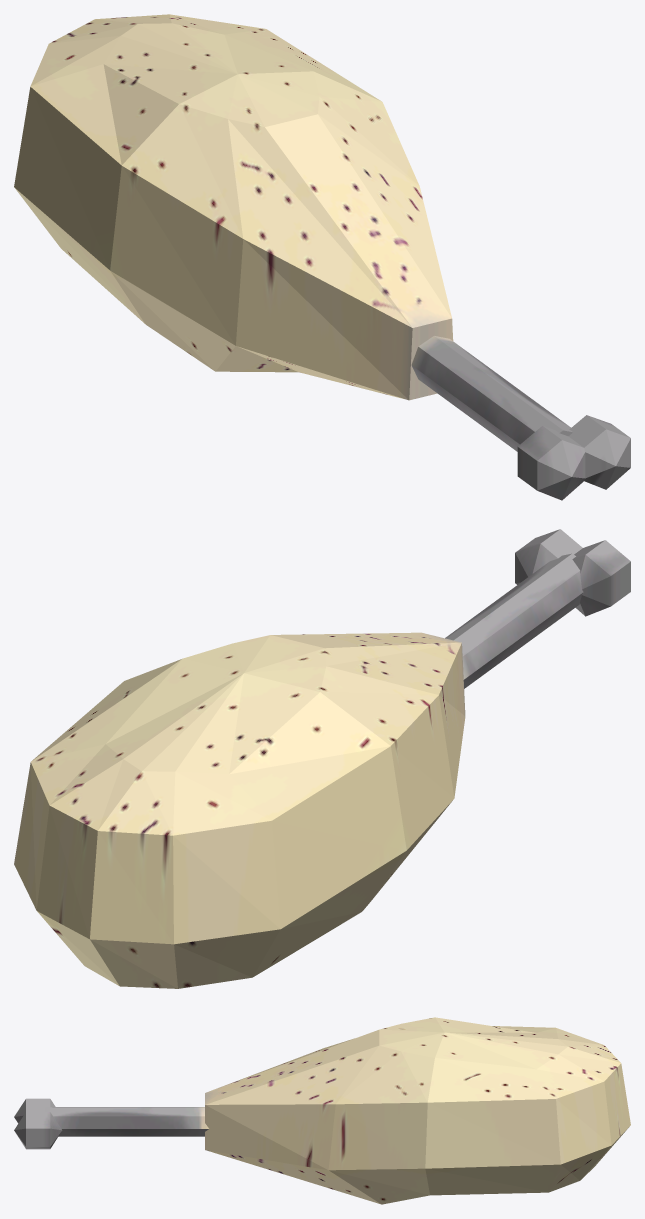
The model's file is Pulke.glb.
The picture shows the model from 3 angles, top to bottom: view 1: azimuth 30°, elevation 25°; view 2: azimuth 150°, elevation 25°; view 3: azimuth 270°, elevation 25°; orthographic projection. The views are drawn at different scales.
Parts seen in each view (by area): view 1: Pulke; view 2: Pulke; view 3: Pulke.
Boxes of the visible parts, left/top/right/bottom form: Pulke: left=14, top=14, right=630, bottom=500; Pulke: left=14, top=529, right=630, bottom=988; Pulke: left=14, top=1017, right=630, bottom=1204.
Bounding box in the file's own units: 5.89 × 4.95 × 17.69.
1 material, 1 textured.
